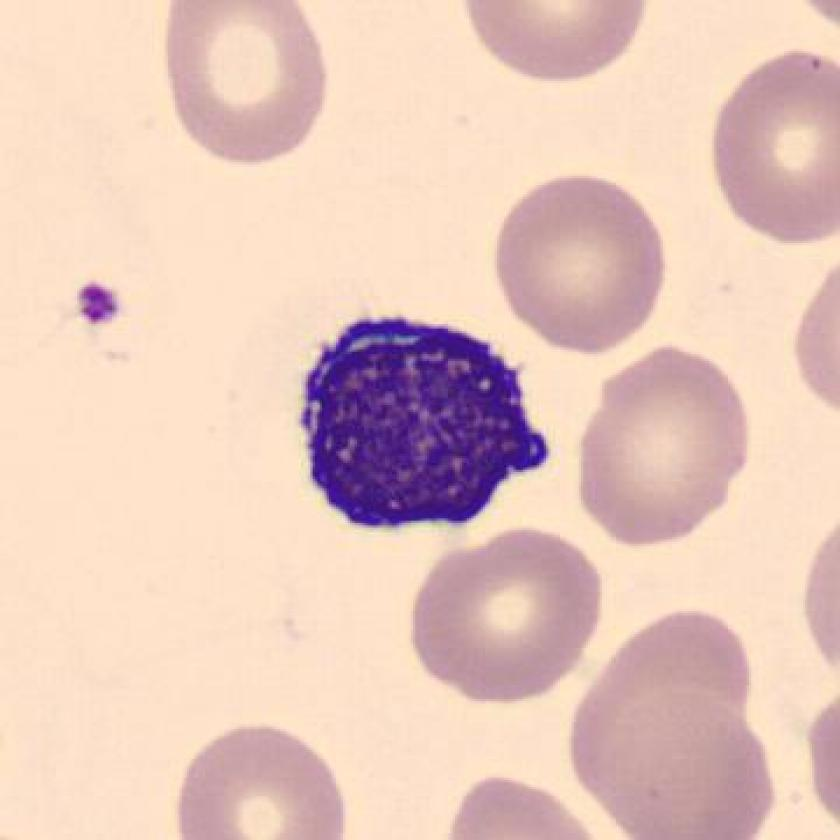lymphocyte: (281, 293, 549, 543)
